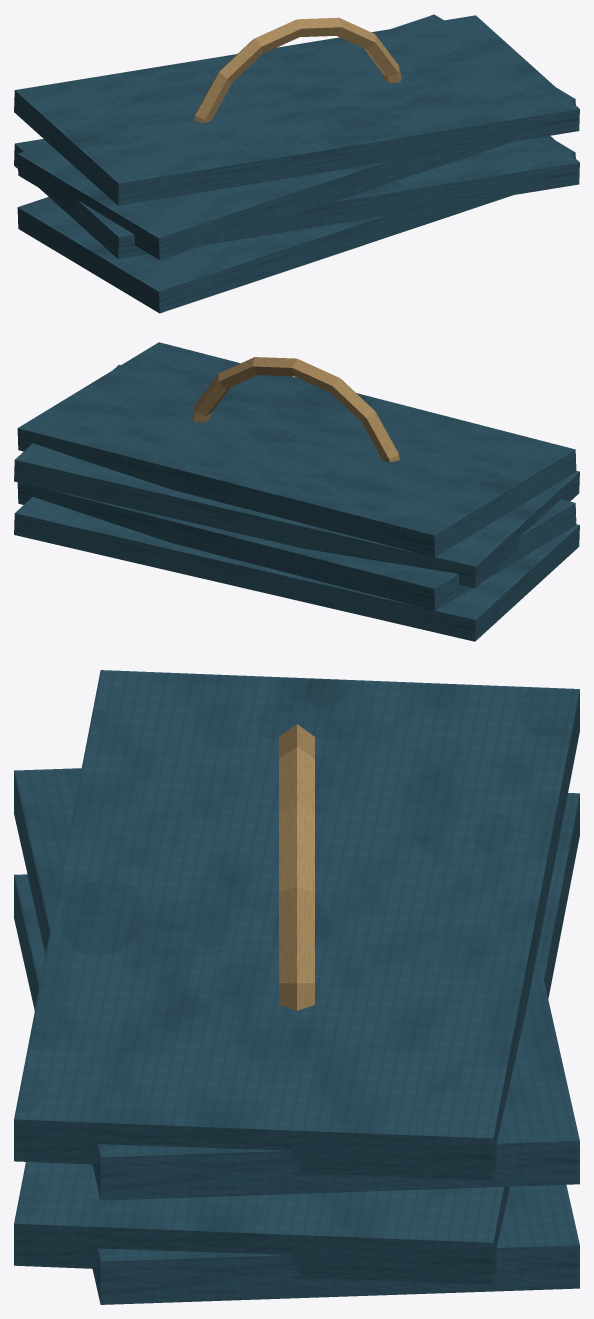
File: pr-001_tarp_presenning__folded.obj
3 renders of one model, top to bottom at view 1: azimuth 30°, elevation 25°; view 2: azimuth 150°, elevation 25°; view 3: azimuth 270°, elevation 25°, orthographic. The views are drawn at different scales.
Parts seen in each view (by area): view 1: pr-001_tarp_presenning__folded; view 2: pr-001_tarp_presenning__folded; view 3: pr-001_tarp_presenning__folded.
Part boxes in pixels (x1,y1,x2,y2): pr-001_tarp_presenning__folded: (14,14,579,313); pr-001_tarp_presenning__folded: (14,342,579,641); pr-001_tarp_presenning__folded: (14,670,579,1304).
Bounding box in the file's own units: 0.9874 × 0.476 × 0.541.
Materials: 2 (2 with a texture image).
